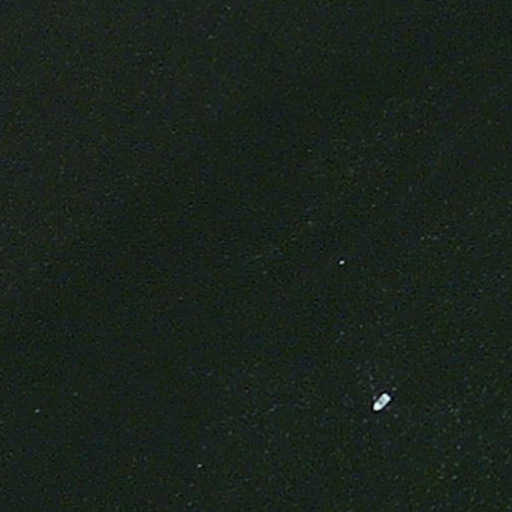ship: (368, 390, 396, 416)
